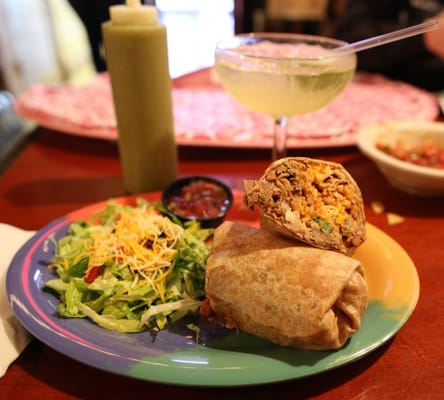soup: (201, 220, 369, 350), (242, 156, 370, 255)
sushi: (354, 119, 444, 199), (162, 175, 234, 228)
